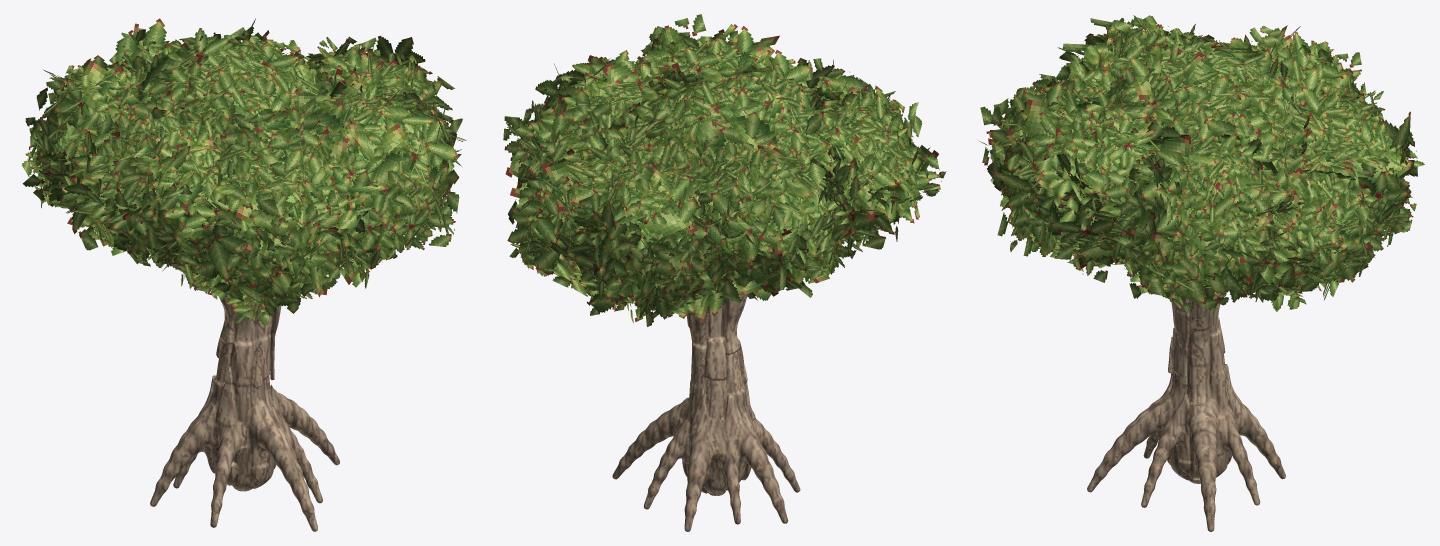
The model's file is macieira_v4.glb.
3 renders of one model, left to right at view 1: azimuth 30°, elevation 25°; view 2: azimuth 150°, elevation 25°; view 3: azimuth 270°, elevation 25°, orthographic. The views are drawn at different scales.
Visible parts, largest first — view 1: Macieira; view 2: Macieira; view 3: Macieira.
Part boxes in pixels (left/top/right/bottom): Macieira: left=22, top=18, right=466, bottom=531; Macieira: left=503, top=14, right=946, bottom=531; Macieira: left=978, top=15, right=1424, bottom=531.
Bounding box in the file's own units: 5.59 × 5.85 × 5.41.
Materials: 3 (1 with a texture image).
